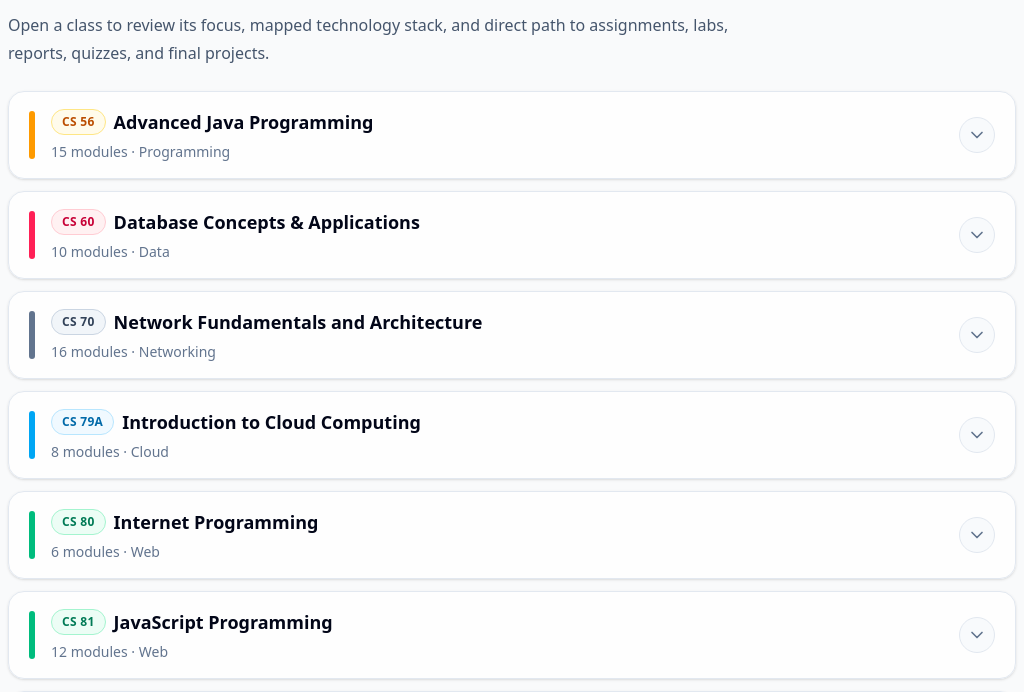
Test: <HomePage /> › shows the verified technology stack for CS 70 - Network Fundamentals and Architecture
(page scrolled)
Click the button with aria-label "CS 70 - Network Fundamentals and Architecture" at (78, 322), box 9,292 -> 1015,378
(page scrolled)
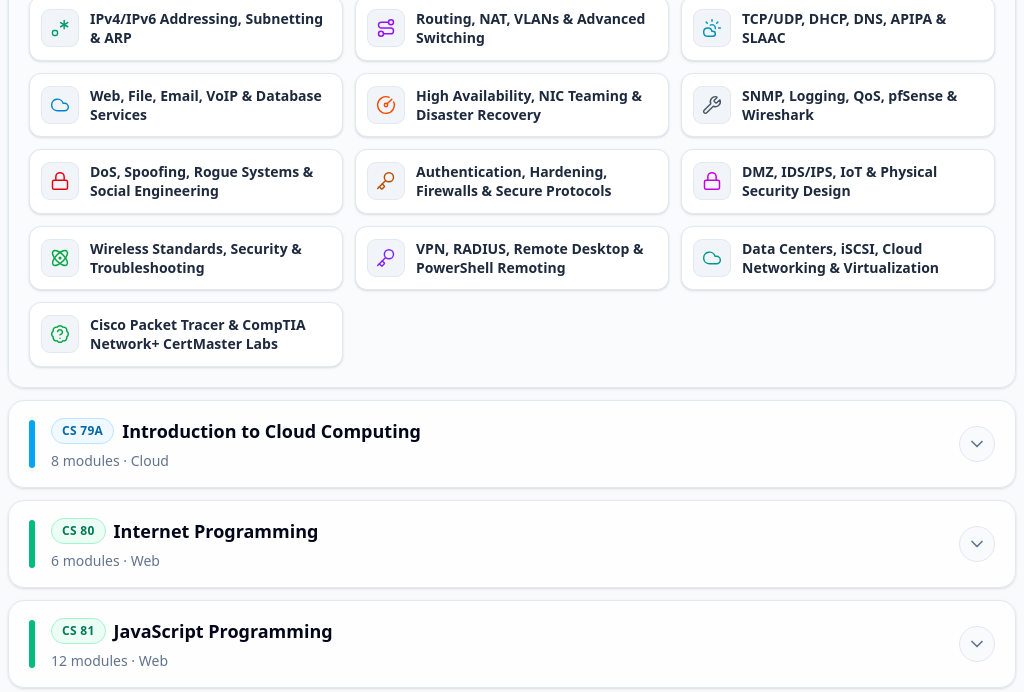
expect the text "IPv4/IPv6 Addressing, Subnetting & ARP" is shown: met, box 90,9 -> 330,48
expect the text "Routing, NAT, VLANs & Advanced Switching" is shown: met, box 416,9 -> 656,48
expect the text "TCP/UDP, DHCP, DNS, APIPA & SLAAC" is shown: met, box 742,9 -> 982,48
